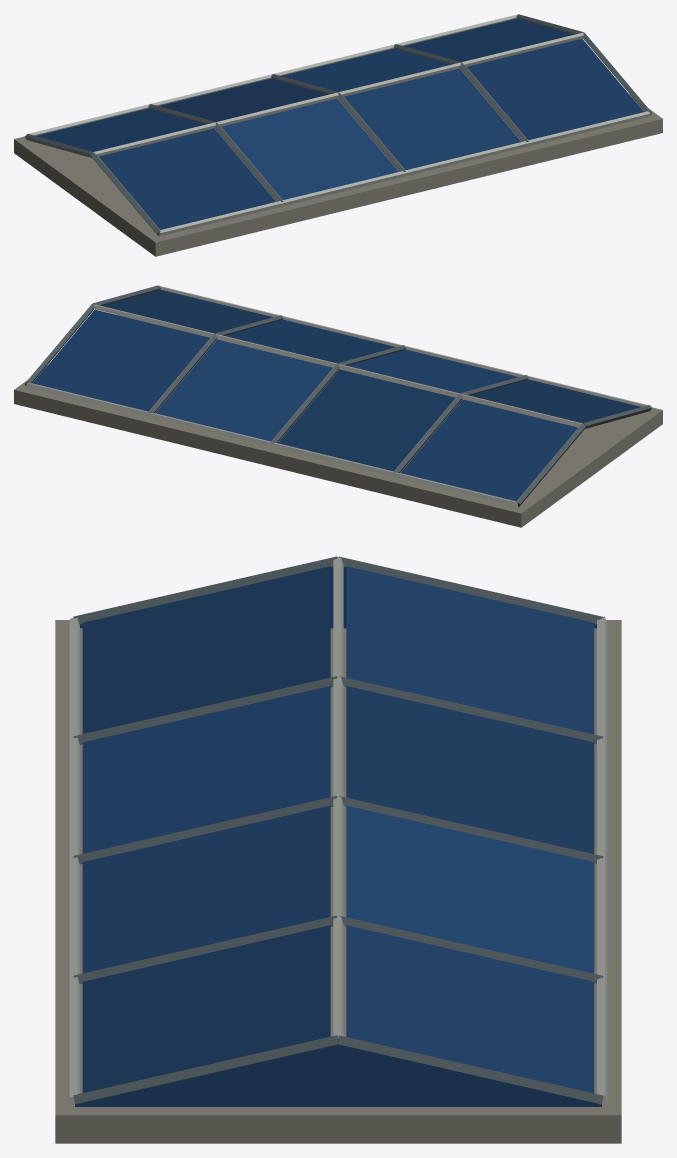
The model's file is FluffSystem-01-Building-07-GlassRoof-1-02.glb.
The picture shows the model from 3 angles, top to bottom: view 1: azimuth 30°, elevation 25°; view 2: azimuth 150°, elevation 25°; view 3: azimuth 270°, elevation 25°; orthographic projection. The views are drawn at different scales.
Parts seen in each view (by area): view 1: FluffSystem-01-Building-07-GlassRoof-1-02; view 2: FluffSystem-01-Building-07-GlassRoof-1-02; view 3: FluffSystem-01-Building-07-GlassRoof-1-02.
Part boxes in pixels (<box>): FluffSystem-01-Building-07-GlassRoof-1-02: <box>14,14,662,256</box>; FluffSystem-01-Building-07-GlassRoof-1-02: <box>14,285,662,527</box>; FluffSystem-01-Building-07-GlassRoof-1-02: <box>55,556,621,1143</box>.
Bounding box in the file's own units: 60 × 5.7 × 29.
